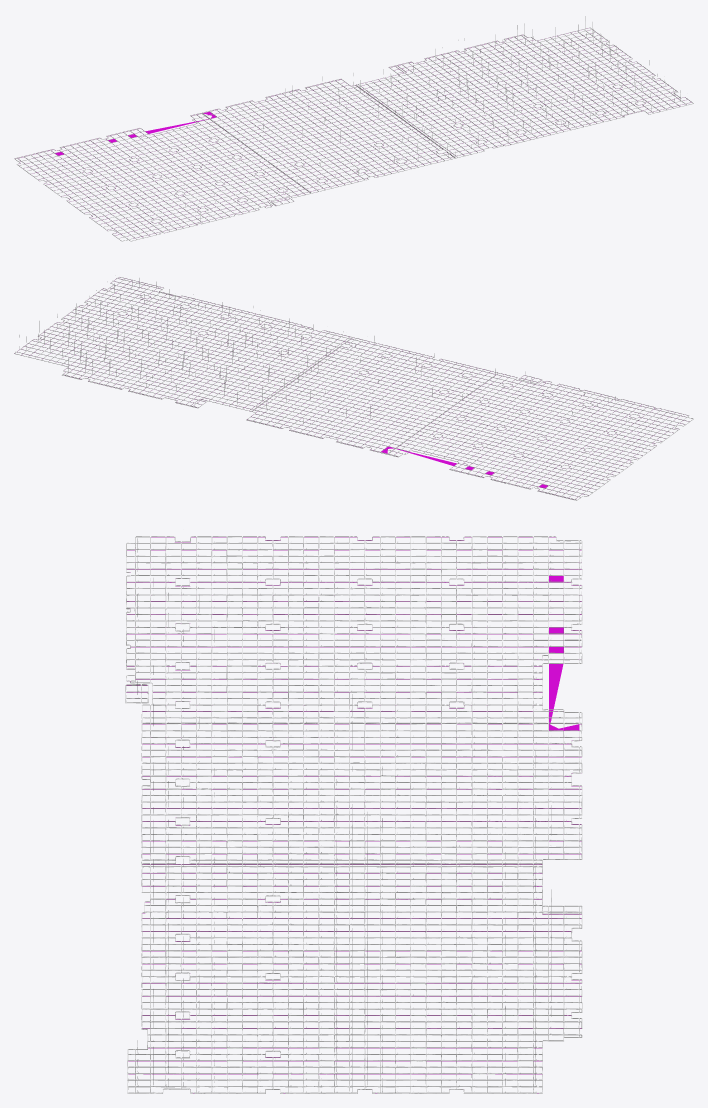
Rendered from ceiling-3-2f.glb.
3 views of the same model, one above another, from view 1: azimuth 30°, elevation 25°; view 2: azimuth 150°, elevation 25°; view 3: azimuth 270°, elevation 25° (orthographic). The views are drawn at different scales.
Bounding box in the file's own units: 103 × 2.56 × 35.81.
